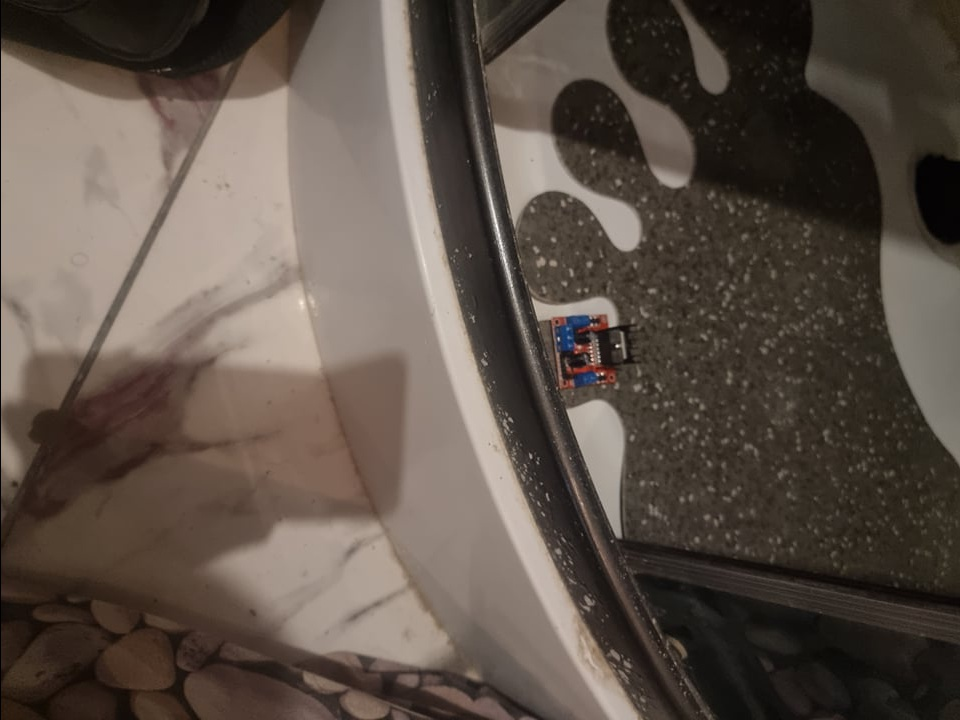MOTOR: (549, 313, 641, 391)
